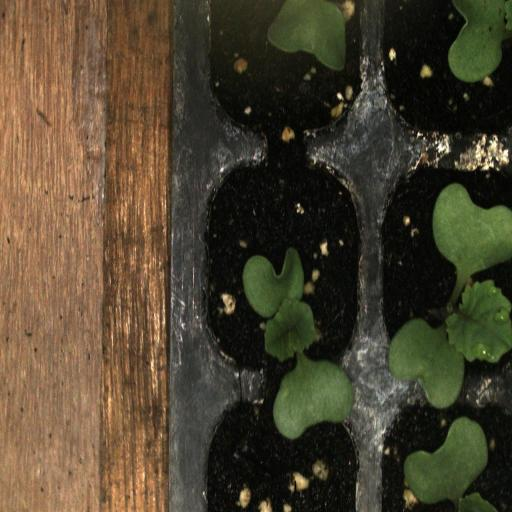seedling: (190, 150, 370, 378), (371, 150, 512, 379)
